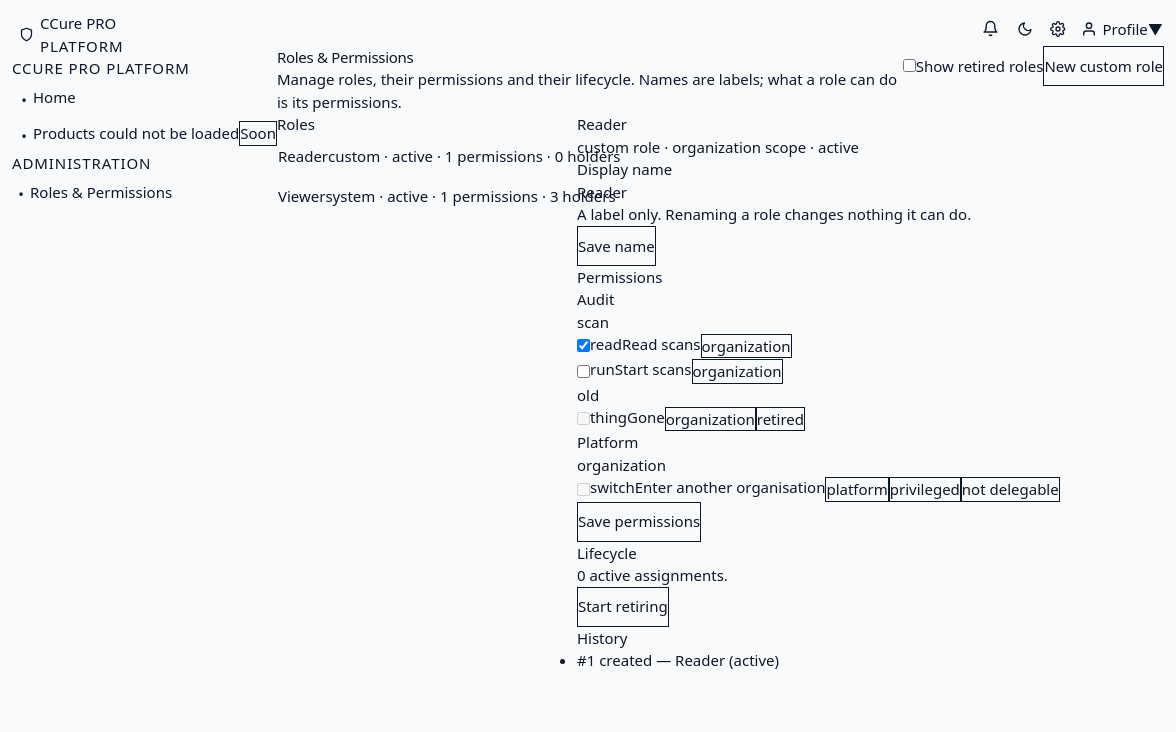
Test: catalogue-driven permissions › a system role's permissions are read-only
Step 1. Click the button "Viewer system · active · 1 permissions · 3 holders" → click(427, 196), box 277,176 -> 577,216
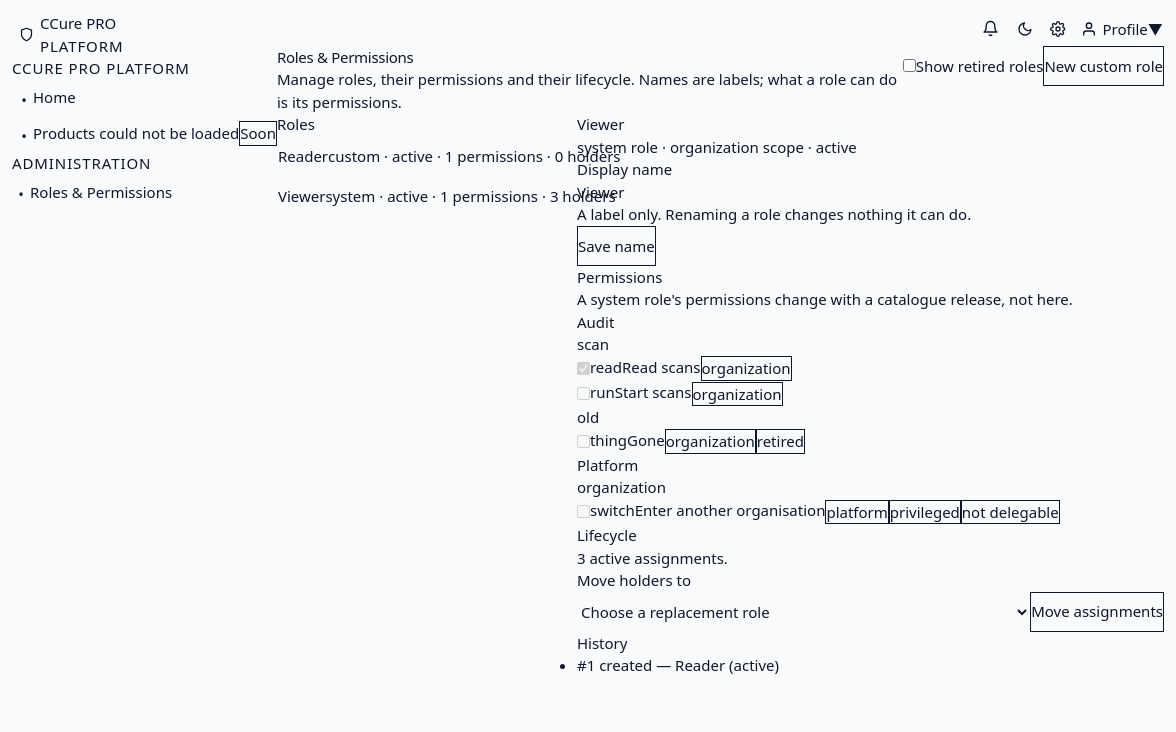
Expected: the text "change with a catalogue release" is shown, 577,289 -> 1073,309
Expected: the checkbox named "audit.scan.read" is disabled, 577,362 -> 590,375
Expected: the button "Save permissions" is gone
